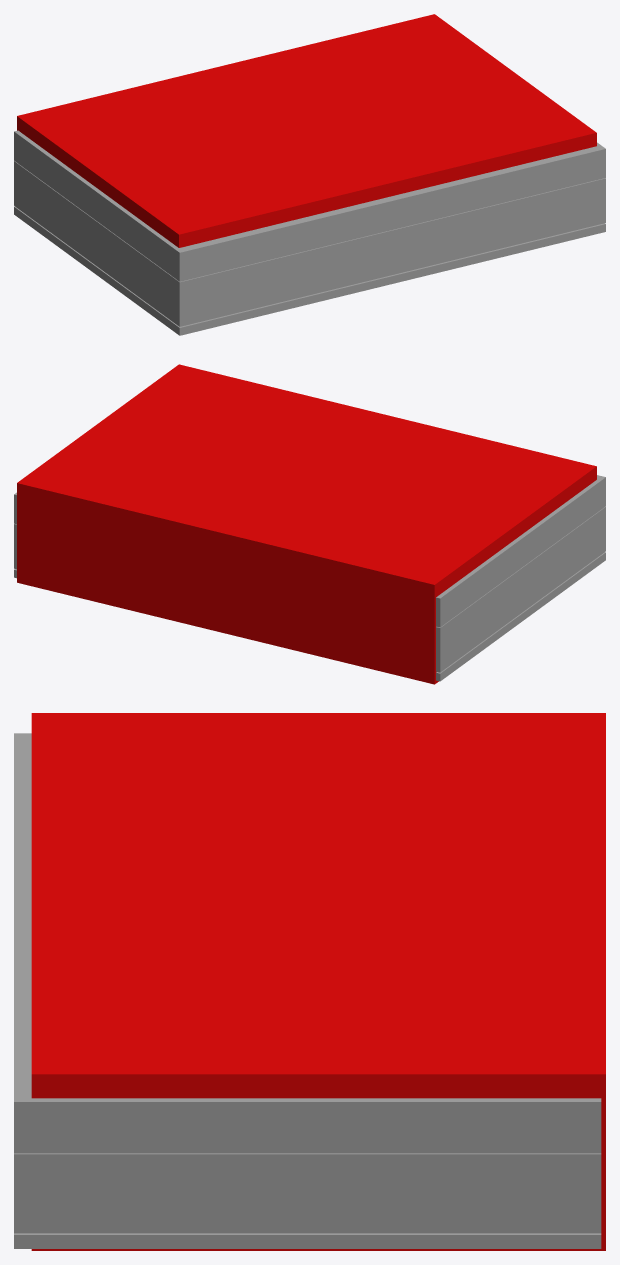
The model's file is redbook.fbx.
3 views of the same model, one above another, from view 1: azimuth 30°, elevation 25°; view 2: azimuth 150°, elevation 25°; view 3: azimuth 270°, elevation 25° (orthographic). The views are drawn at different scales.
Visible parts, largest first — view 1: pasted__pasted__pasted__pasted__pasted__pasted__pasted__past; view 2: pasted__pasted__pasted__pasted__pasted__pasted__pasted__past; view 3: pasted__pasted__pasted__pasted__pasted__pasted__pasted__past.
Part boxes in pixels (x1,y1,x2,y2): pasted__pasted__pasted__pasted__pasted__pasted__pasted__past: [14, 14, 605, 335]; pasted__pasted__pasted__pasted__pasted__pasted__pasted__past: [14, 364, 605, 684]; pasted__pasted__pasted__pasted__pasted__pasted__pasted__past: [14, 713, 605, 1250].
Size of the model in its own units: 0.9227 by 0.2061 by 0.6265.
